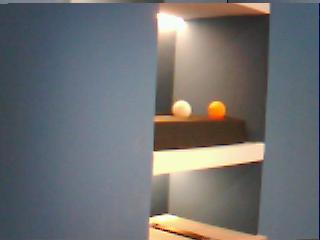oball: (207, 100, 226, 119)
